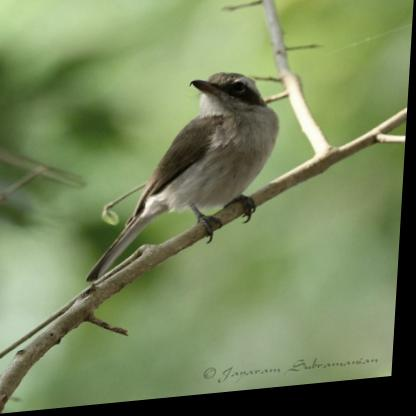Burung: (89, 71, 283, 284)
